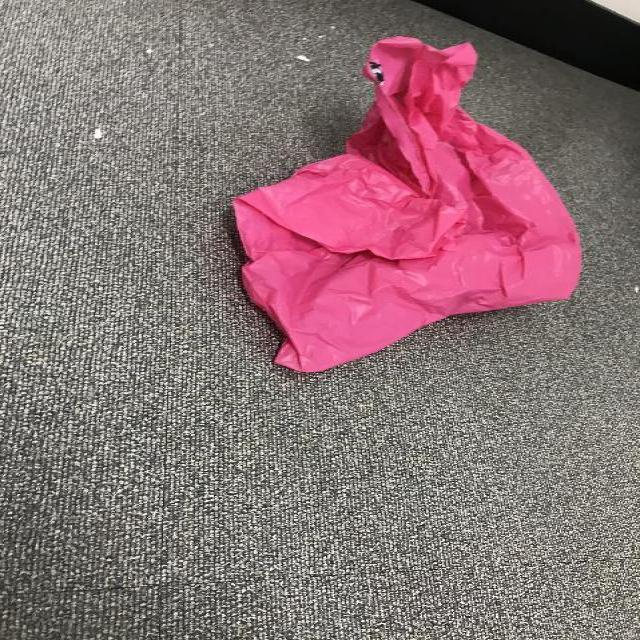plastic bag: (223, 34, 590, 374)
